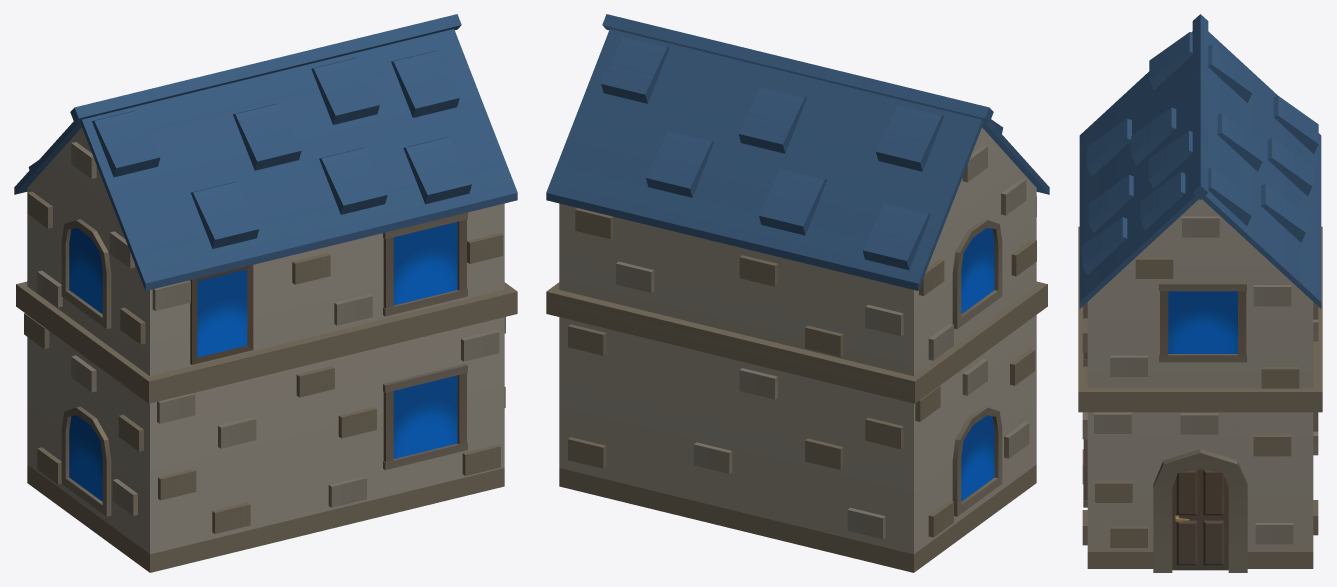
File: SM_House_6.FBX
The picture shows the model from 3 angles, left to right: view 1: azimuth 30°, elevation 25°; view 2: azimuth 150°, elevation 25°; view 3: azimuth 270°, elevation 25°; orthographic projection. The views are drawn at different scales.
Parts seen in each view (by area): view 1: SM_House_6; view 2: SM_House_6; view 3: SM_House_6.
Part boxes in pixels (bbox=[...]): SM_House_6: bbox=[14, 14, 517, 572]; SM_House_6: bbox=[546, 14, 1049, 572]; SM_House_6: bbox=[1078, 14, 1322, 572].
Size of what is drawn, in the model's own units: 756 by 455 by 800.
